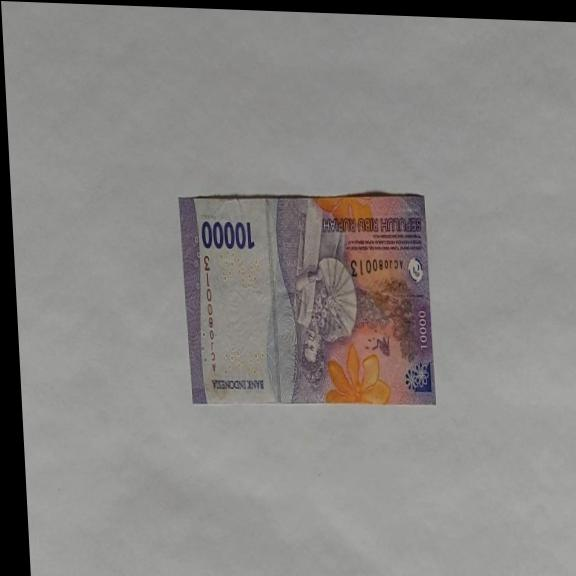Kertas: (177, 185, 436, 413), (199, 217, 255, 253)
